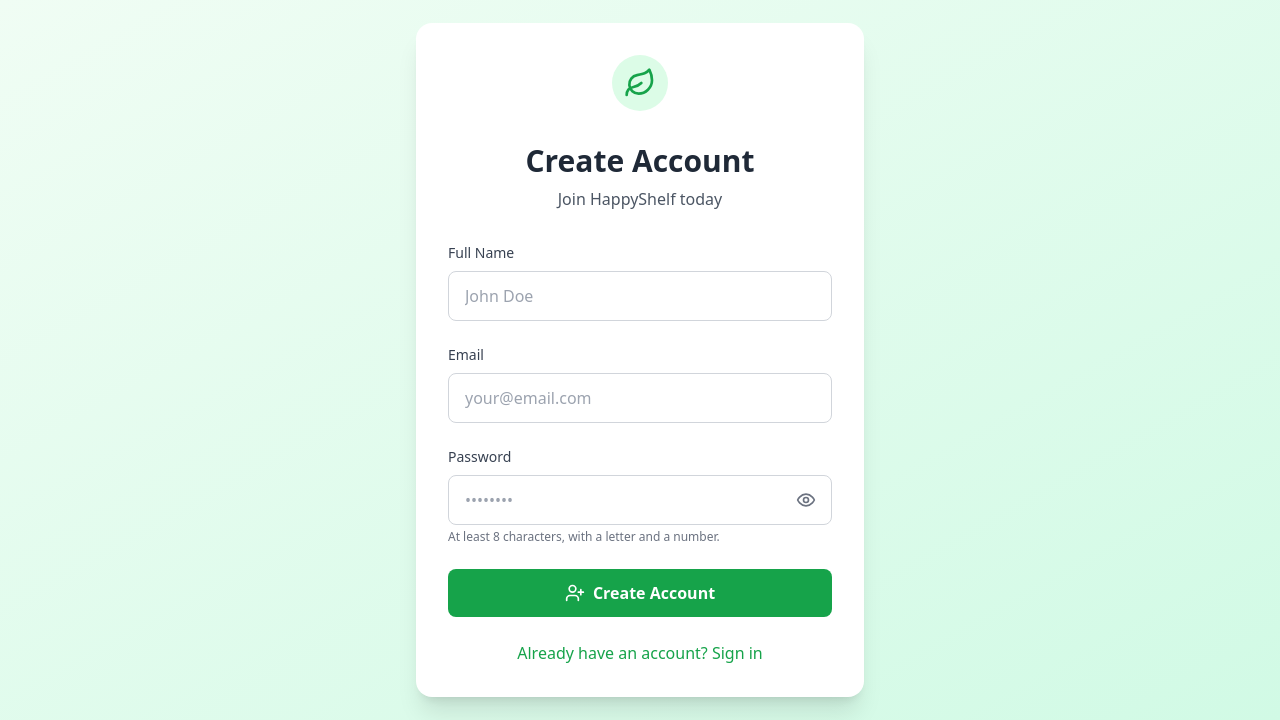
Test: password visibility toggle › the control announces its state to assistive tech
What coordinates should you click on to do the following:
click the button named "Show password"
I would click on:
 (806, 500)
Its box is [788,475,824,525].
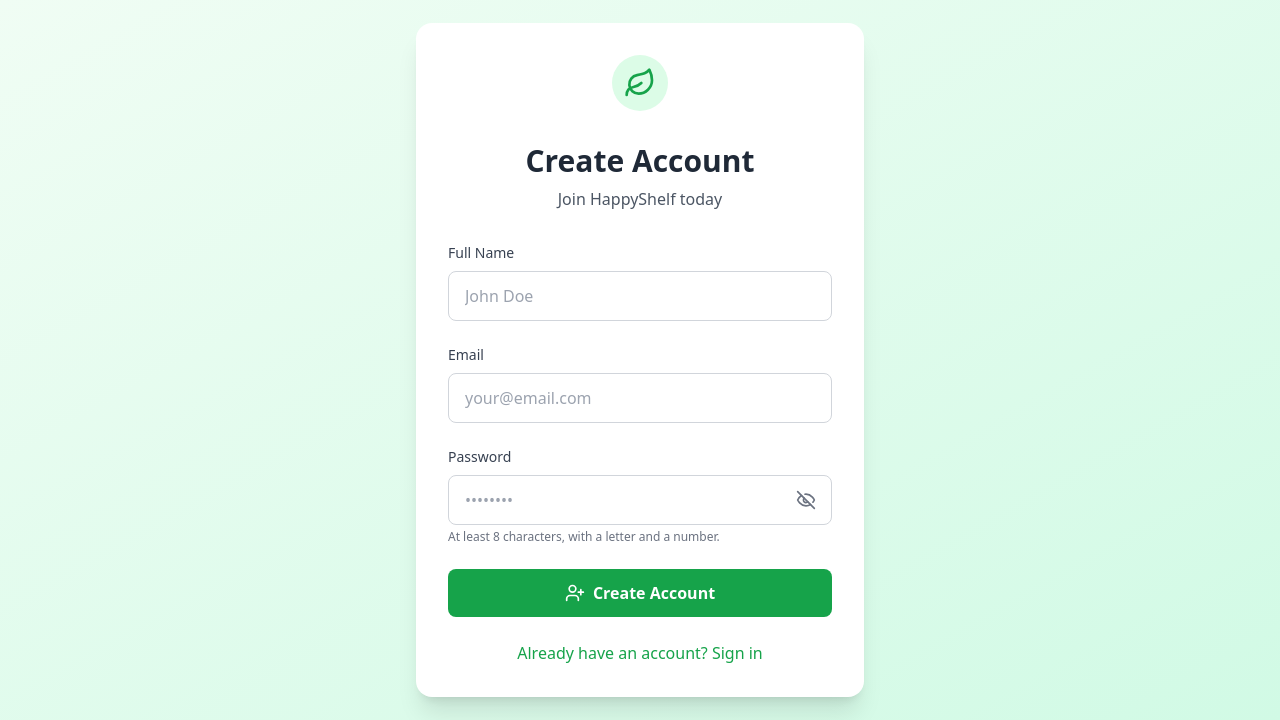
Result: the button named "Hide password" is pressed at [788,475,824,525]
